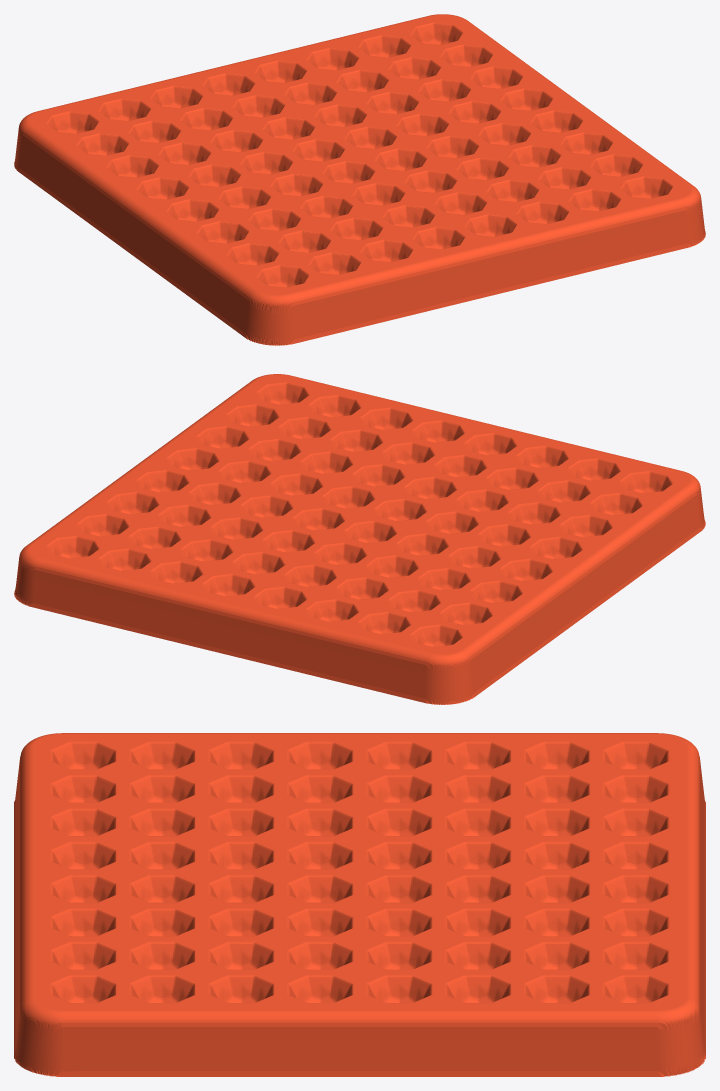
The model's file is mold.glb.
3 renders of one model, top to bottom at view 1: azimuth 30°, elevation 25°; view 2: azimuth 150°, elevation 25°; view 3: azimuth 270°, elevation 25°, orthographic. The views are drawn at different scales.
Parts seen in each view (by area): view 1: geometry_0; view 2: geometry_0; view 3: geometry_0.
Boxes of the visible parts, box(x1,y1,x2,y2) form: geometry_0: box(14, 14, 705, 345); geometry_0: box(14, 374, 705, 704); geometry_0: box(14, 733, 705, 1076).
Size of the model in its own units: 0.1283 by 0.0119 by 0.1283.
